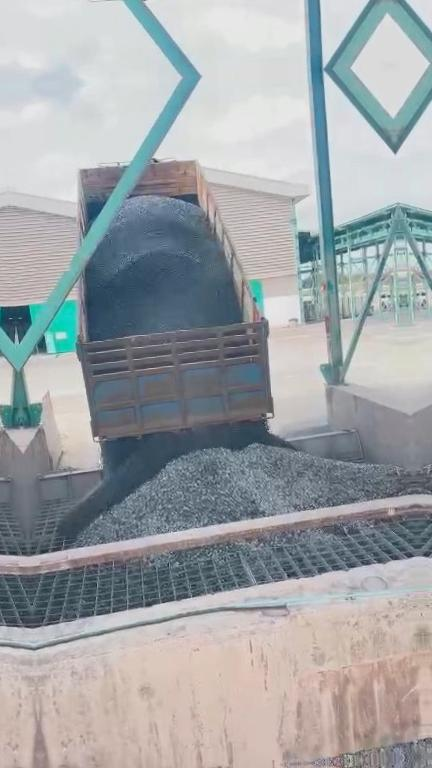gravel: (77, 444, 415, 545), (86, 196, 242, 339), (250, 522, 379, 558), (102, 438, 139, 473), (186, 543, 231, 560)
